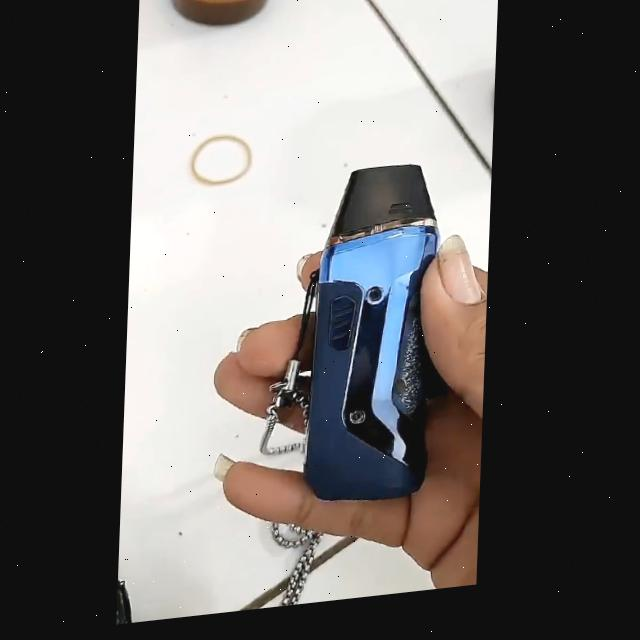vape: (310, 167, 446, 510)
